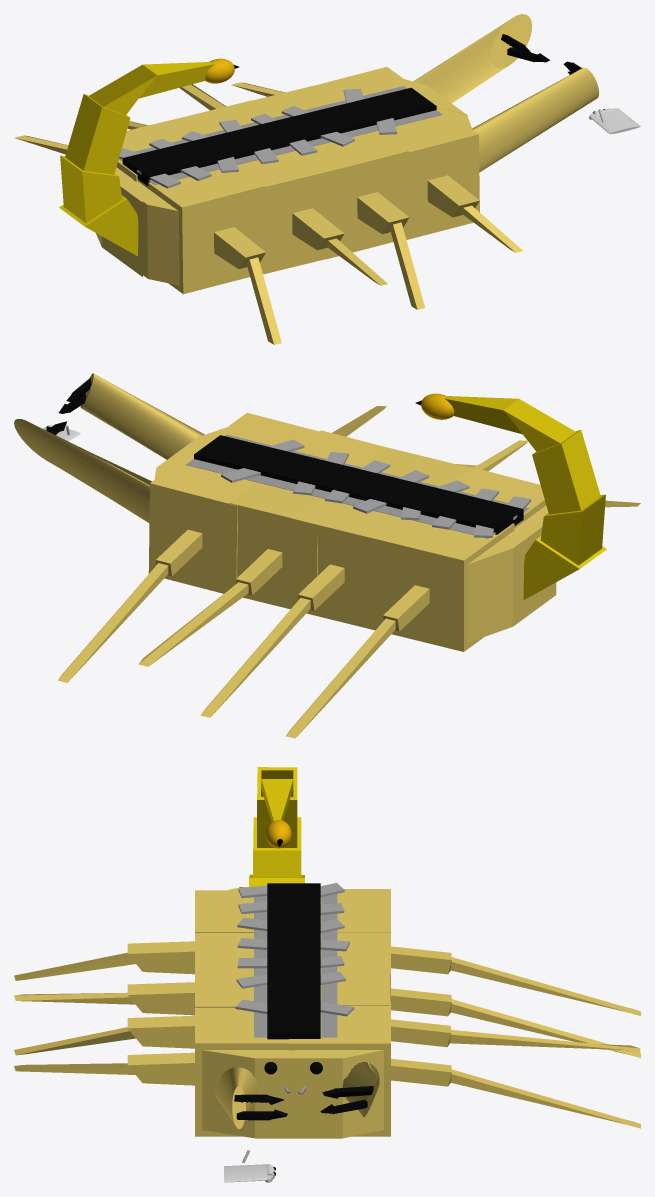
File: scorpion.gltf
3 views of the same model, one above another, from view 1: azimuth 30°, elevation 25°; view 2: azimuth 150°, elevation 25°; view 3: azimuth 270°, elevation 25° (orthographic). The views are drawn at different scales.
Parts seen in each view (by area): view 1: Box9, Box10, Box4, Box, Box3, Box11, Cylinder, Cylinder1, Box8, Box5, Box1, Box2 (+4 smaller); view 2: Box8, Box5, Box10, Box2, Box11, Box1, Cylinder1, Cylinder, Box4, Box9, Box3, Box (+2 smaller); view 3: Box5, Box4, Box11, Box8, Box9, Box3, Box2, Box10, Box, Box1, Cylinder, Box21 (+3 smaller).
Part boxes in pixels (x1,y1,x2,y2): Box9: [133, 166, 281, 344]; Box10: [59, 62, 214, 256]; Box4: [386, 102, 523, 252]; Box: [315, 130, 424, 309]; Box3: [237, 146, 387, 285]; Box11: [122, 87, 436, 186]; Cylinder: [472, 67, 599, 172]; Cylinder1: [413, 14, 532, 103]; Box8: [14, 120, 188, 276]; Box5: [231, 67, 467, 115]; Box1: [179, 84, 334, 116]; Box2: [127, 100, 275, 134]; Box8: [285, 519, 556, 738]; Box5: [57, 436, 256, 682]; Box10: [444, 396, 606, 599]; Box2: [200, 498, 402, 717]; Box11: [194, 435, 523, 534]; Box1: [138, 482, 319, 666]; Cylinder1: [14, 419, 151, 522]; Cylinder: [80, 373, 204, 459]; Box4: [198, 406, 386, 447]; Box9: [450, 467, 640, 531]; Box3: [362, 440, 527, 486]; Box: [294, 430, 476, 467]; Box5: [255, 1001, 640, 1138]; Box4: [14, 1008, 292, 1138]; Box11: [267, 883, 320, 1039]; Box8: [239, 887, 640, 1016]; Box9: [14, 888, 253, 980]; Box3: [14, 933, 253, 1015]; Box2: [320, 932, 640, 1058]; Box10: [249, 767, 304, 886]; Box: [14, 974, 253, 1055]; Box1: [320, 974, 640, 1053]; Cylinder: [213, 1067, 258, 1128]; Box21: [321, 894, 337, 1037].
Bounding box in the file's own units: 6.55 × 2.31 × 6.14.
